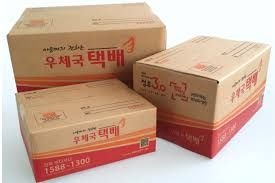undamaged: (133, 32, 274, 160), (15, 78, 157, 181), (6, 2, 166, 93)
